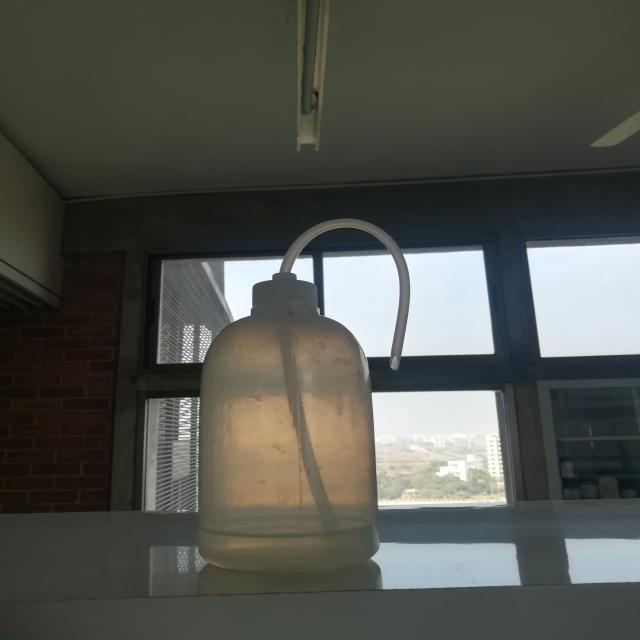Wash_Bottle: (162, 181, 464, 595)
